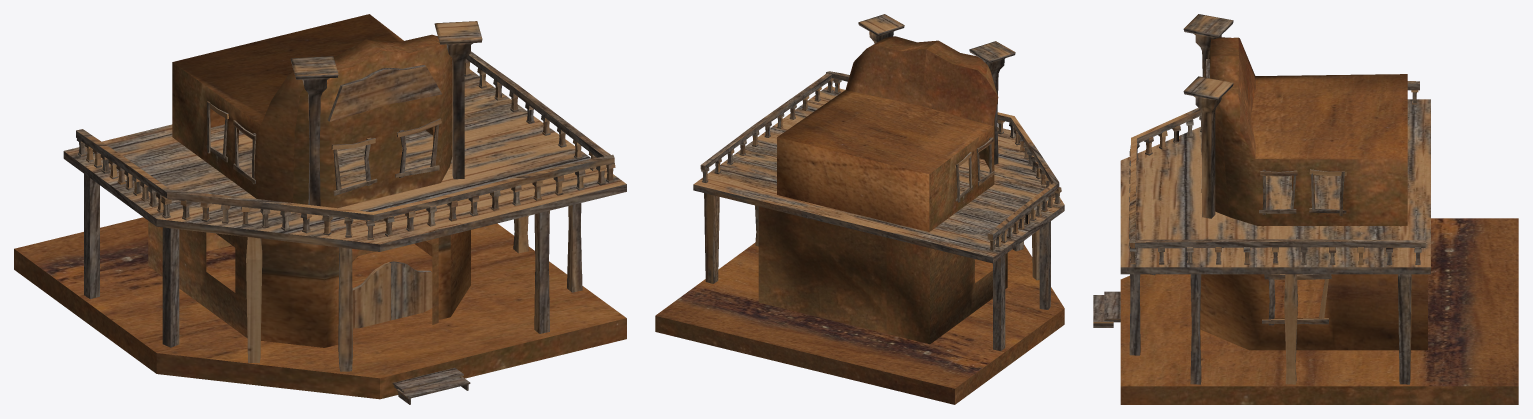
Rendered from Saloon.fbx.
The picture shows the model from 3 angles, left to right: view 1: azimuth 30°, elevation 25°; view 2: azimuth 150°, elevation 25°; view 3: azimuth 270°, elevation 25°; orthographic projection. The views are drawn at different scales.
Visible parts, largest first — view 1: Saloon; view 2: Saloon; view 3: Saloon.
Part boxes in pixels (x1,y1,x2,y2): Saloon: [14, 14, 626, 404]; Saloon: [655, 14, 1064, 404]; Saloon: [1093, 14, 1518, 404].
Bounding box in the file's own units: 9.94 × 7.36 × 10.62.
